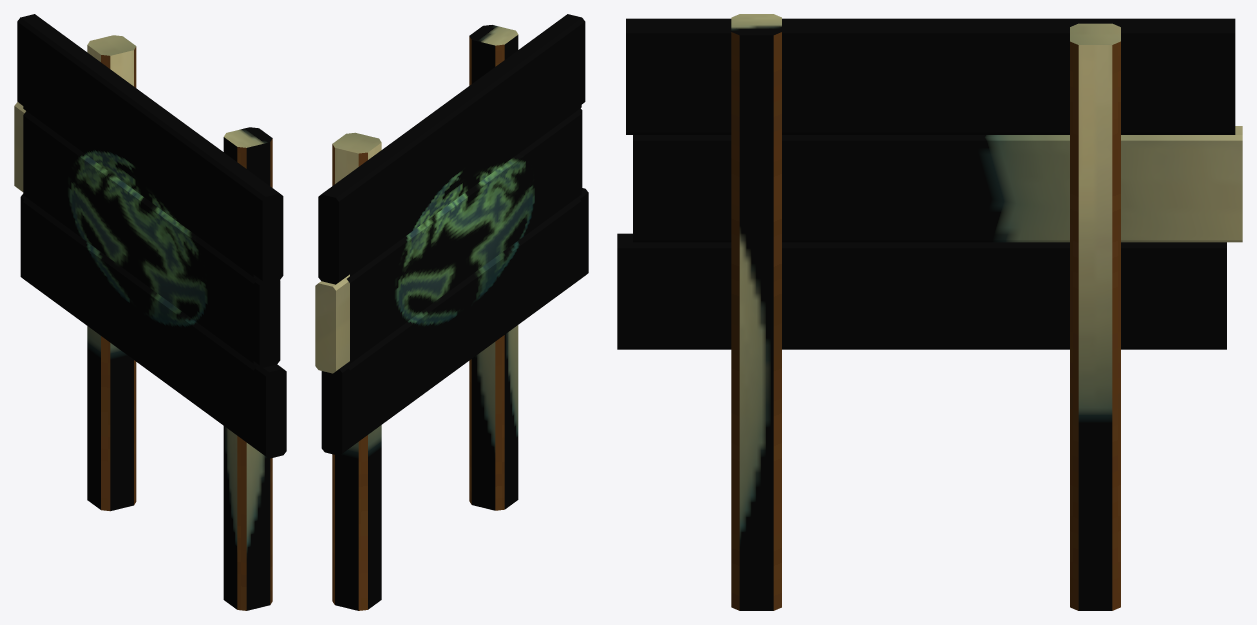
File: Prop_Sign_16x9_1_1x1.fbx
The picture shows the model from 3 angles, left to right: view 1: azimuth 30°, elevation 25°; view 2: azimuth 150°, elevation 25°; view 3: azimuth 270°, elevation 25°; orthographic projection. The views are drawn at different scales.
Parts seen in each view (by area): view 1: Prop_Sign_16x9_1_1x1; view 2: Prop_Sign_16x9_1_1x1; view 3: Prop_Sign_16x9_1_1x1.
Part boxes in pixels (bbox=[...]): Prop_Sign_16x9_1_1x1: bbox=[14, 14, 286, 610]; Prop_Sign_16x9_1_1x1: bbox=[315, 14, 588, 610]; Prop_Sign_16x9_1_1x1: bbox=[617, 14, 1242, 610].
Bounding box in the file's own units: 15.52 × 117 × 115.
